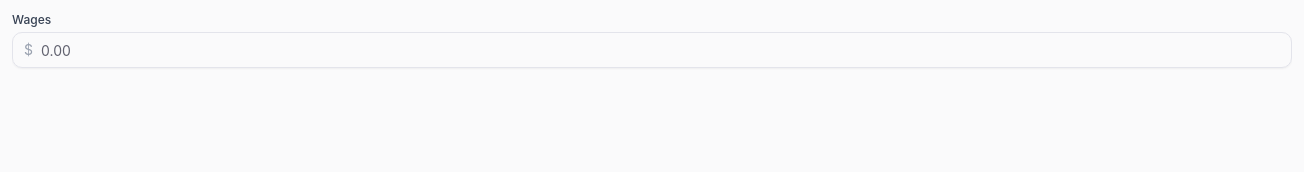
Test case: CurrencyInput › reformats to two decimal places on blur
Step 1. Type "1500.5" into the field labelled "Wages" → (652, 50), box [12,32,1292,68]
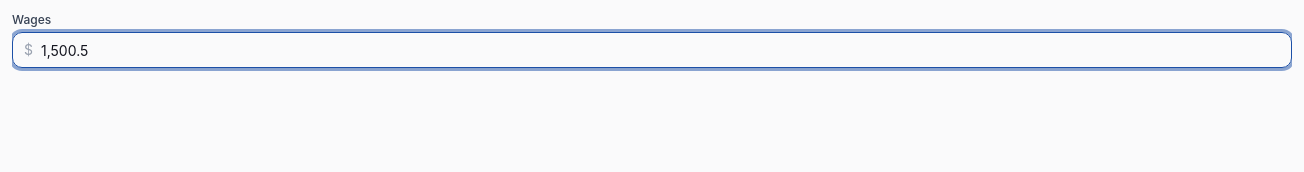
Step 2. Press Tab
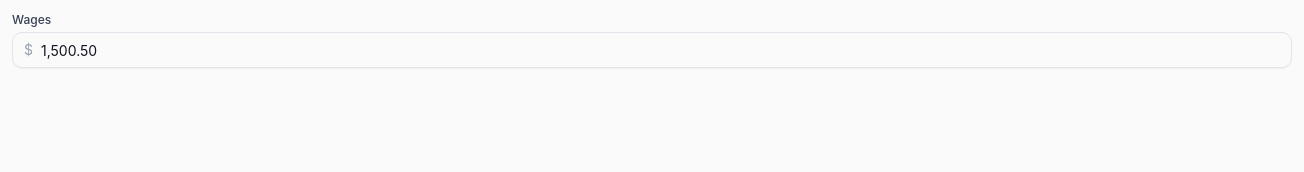
Expected: the field labelled "Wages" holds "1,500.50", [12,32,1292,68]
